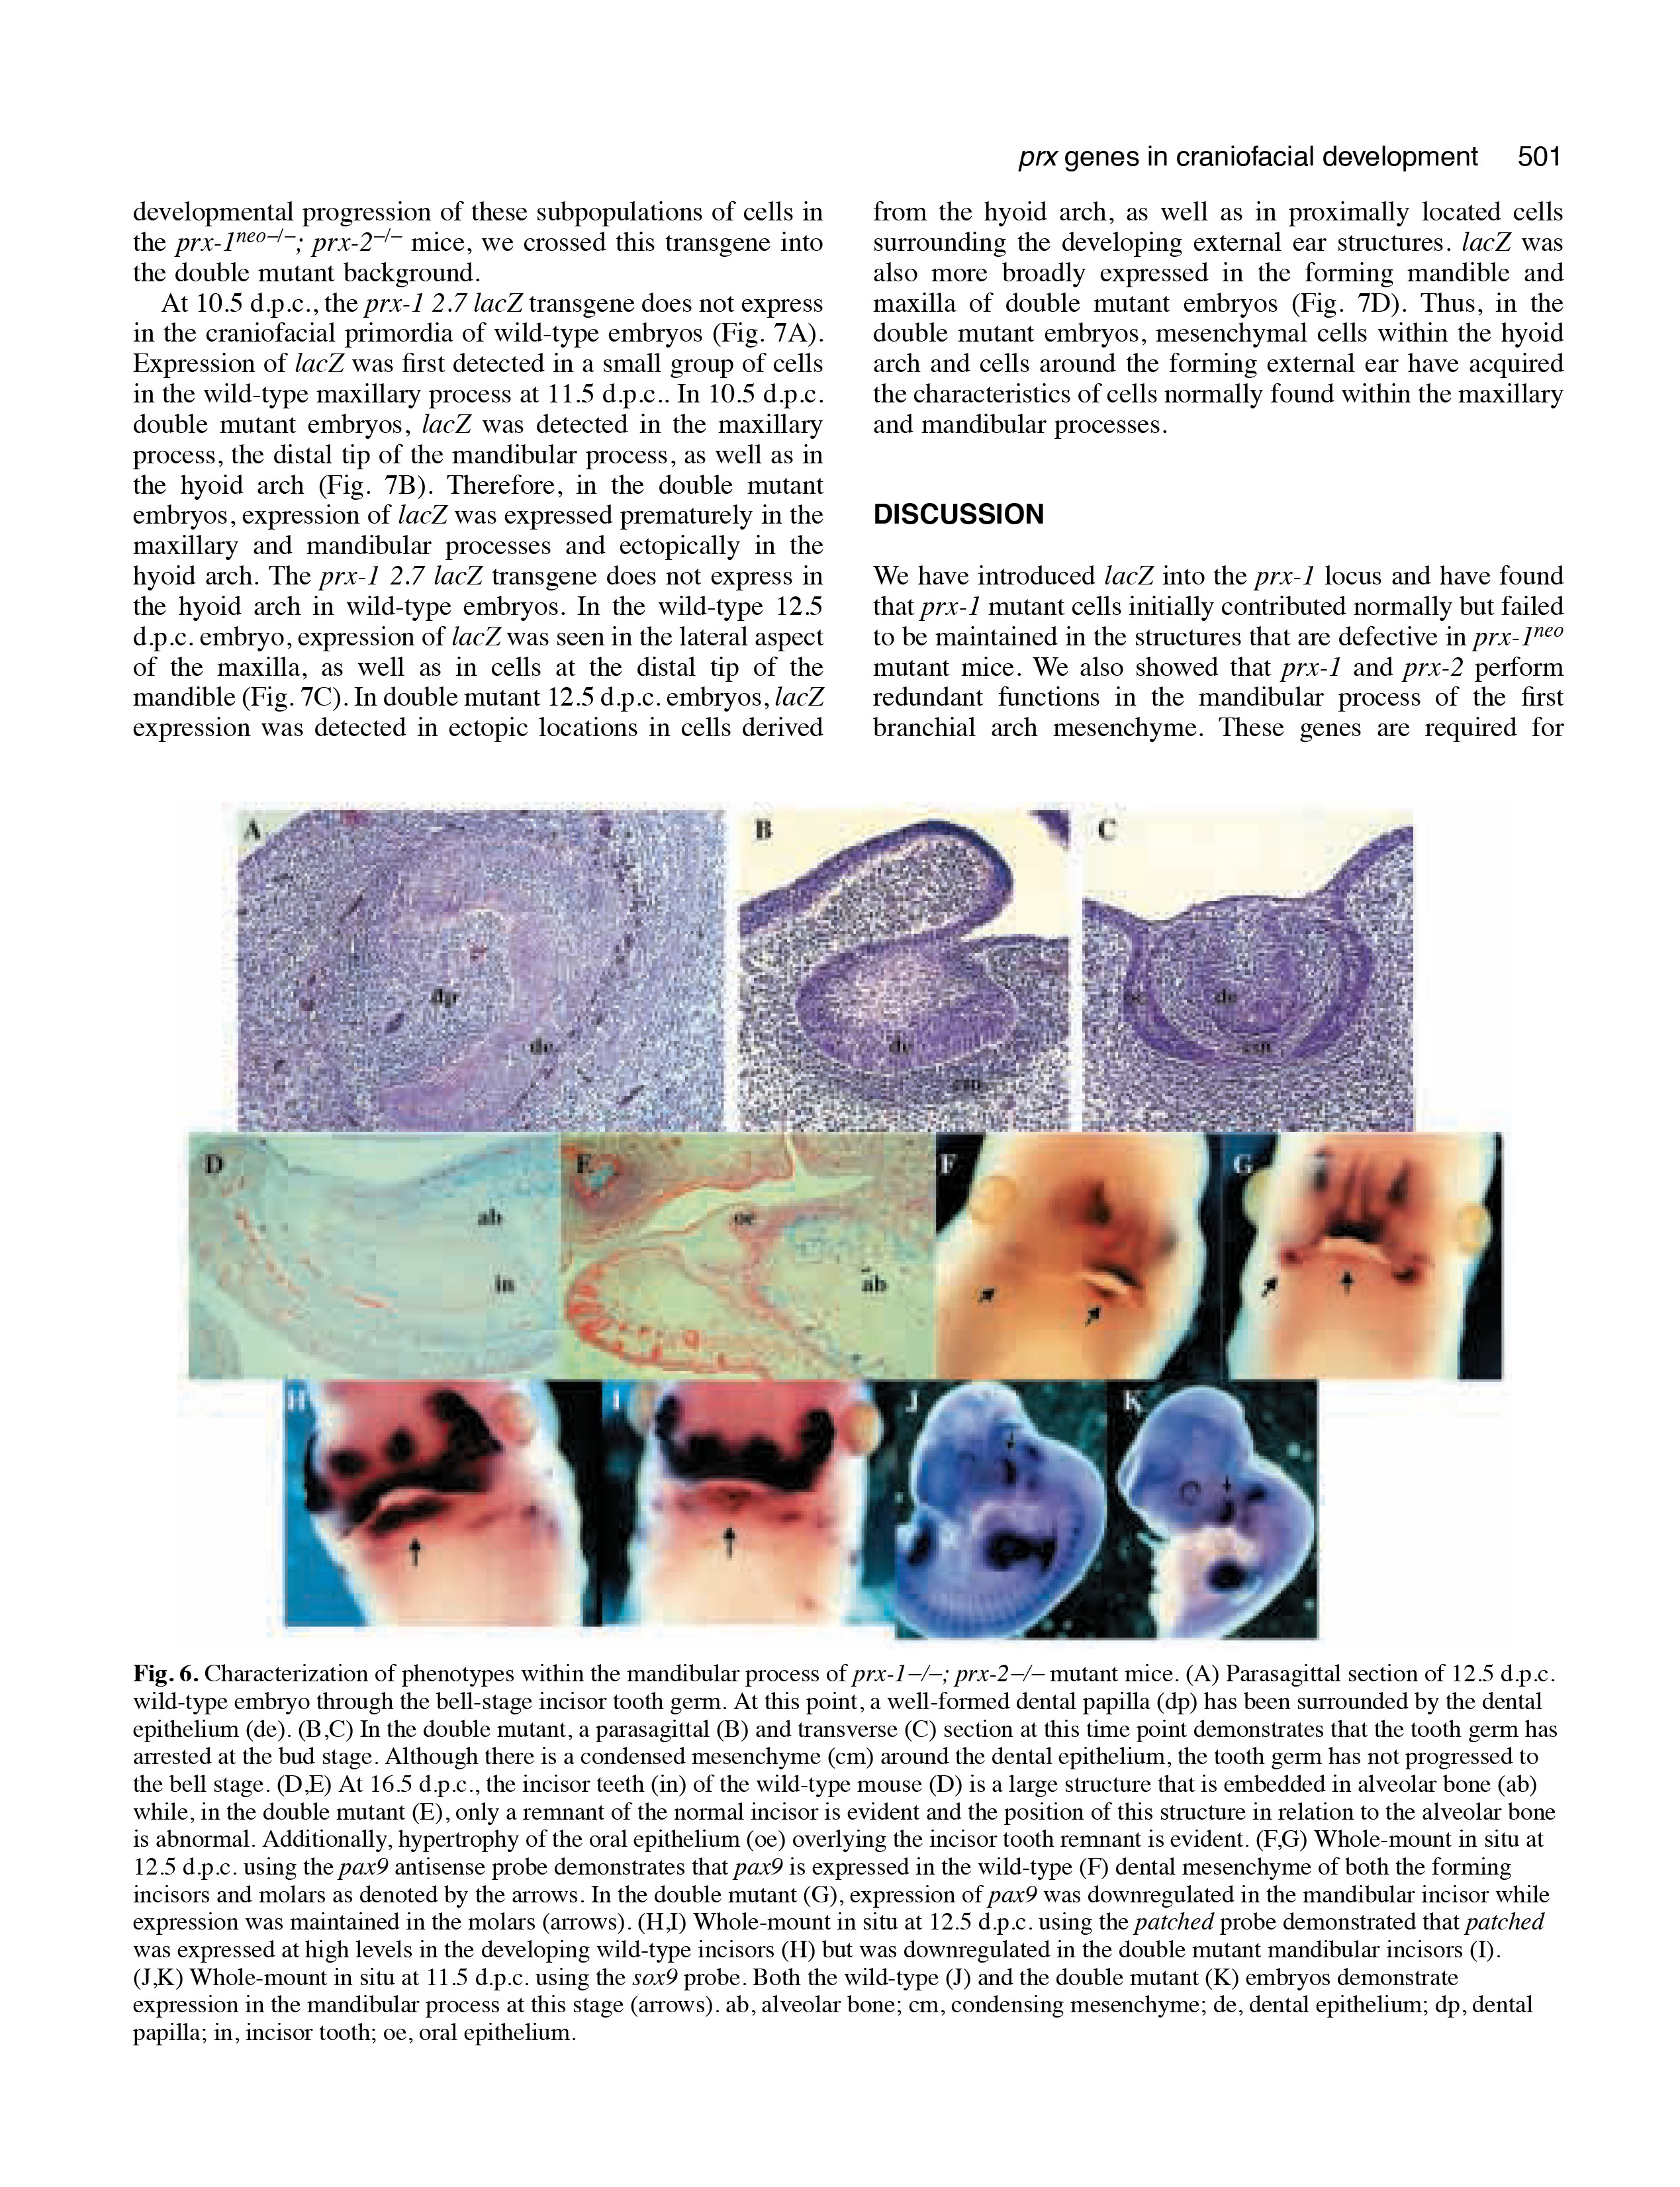caption: (101, 1659, 1567, 2060)
figure: (231, 814, 1406, 1126), (191, 1130, 1496, 1393), (274, 1384, 1338, 1635)
section: (870, 491, 1046, 551)
text: (131, 207, 810, 736), (881, 187, 1579, 443), (859, 586, 1564, 743)
